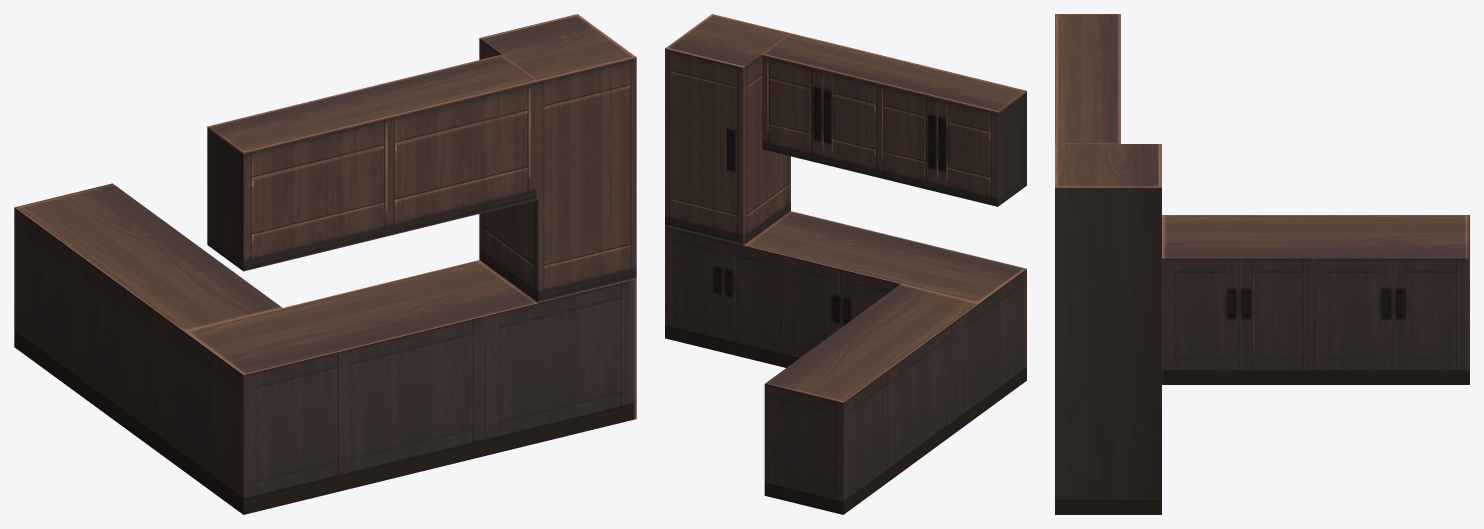
Rendered from kitchen.fbx.
The picture shows the model from 3 angles, left to right: view 1: azimuth 30°, elevation 25°; view 2: azimuth 150°, elevation 25°; view 3: azimuth 270°, elevation 25°; orthographic projection. The views are drawn at different scales.
Visible parts, largest first — view 1: kitchen.001; view 2: kitchen.001; view 3: kitchen.001.
Part boxes in pixels (x1,y1,x2,y2): kitchen.001: (14,14,636,514); kitchen.001: (665,14,1026,514); kitchen.001: (1055,14,1469,514).
Bounding box in the file's own units: 2.77 × 2.44 × 2.8.
1 material, 1 textured.
